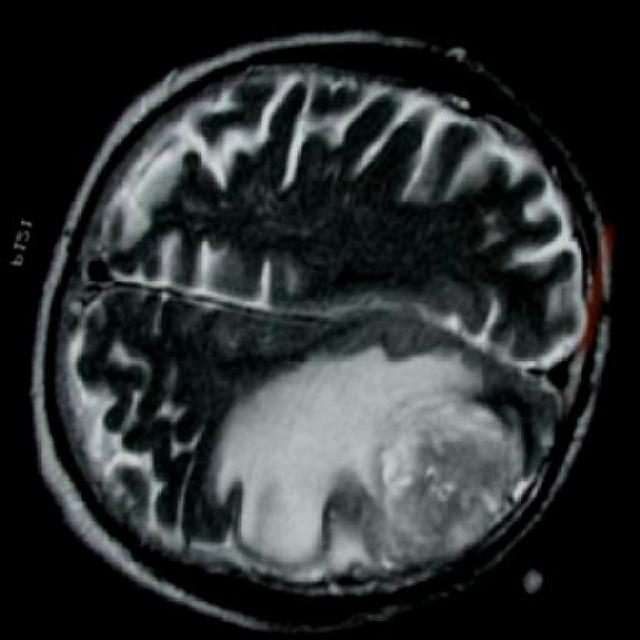Brain-Tumor: (207, 337, 556, 572)
